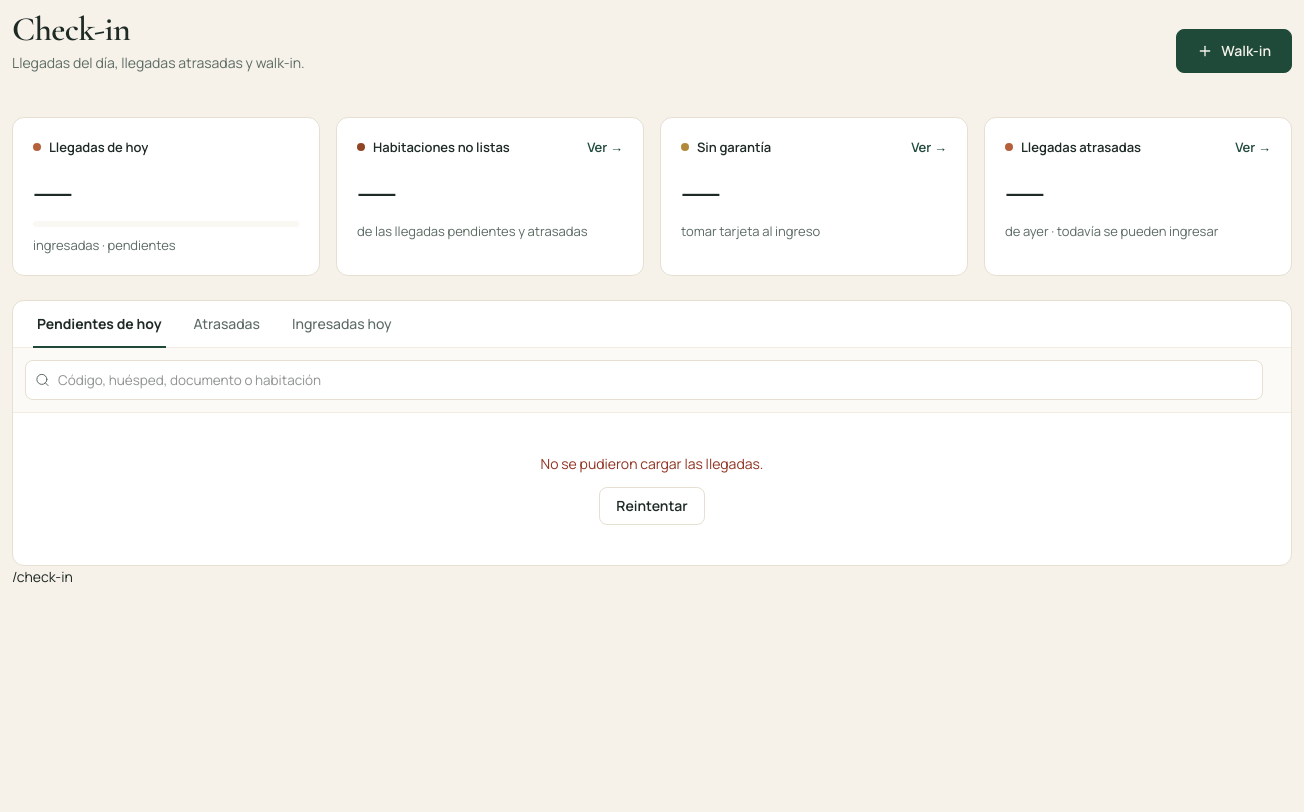
Test: estados de la pantalla › error con reintento
Expected: the text "No se pudieron cargar las llegadas." is shown, [541,453,763,475]
Step 1. Click the button "Reintentar" → point(652, 506), box [599,487,705,525]
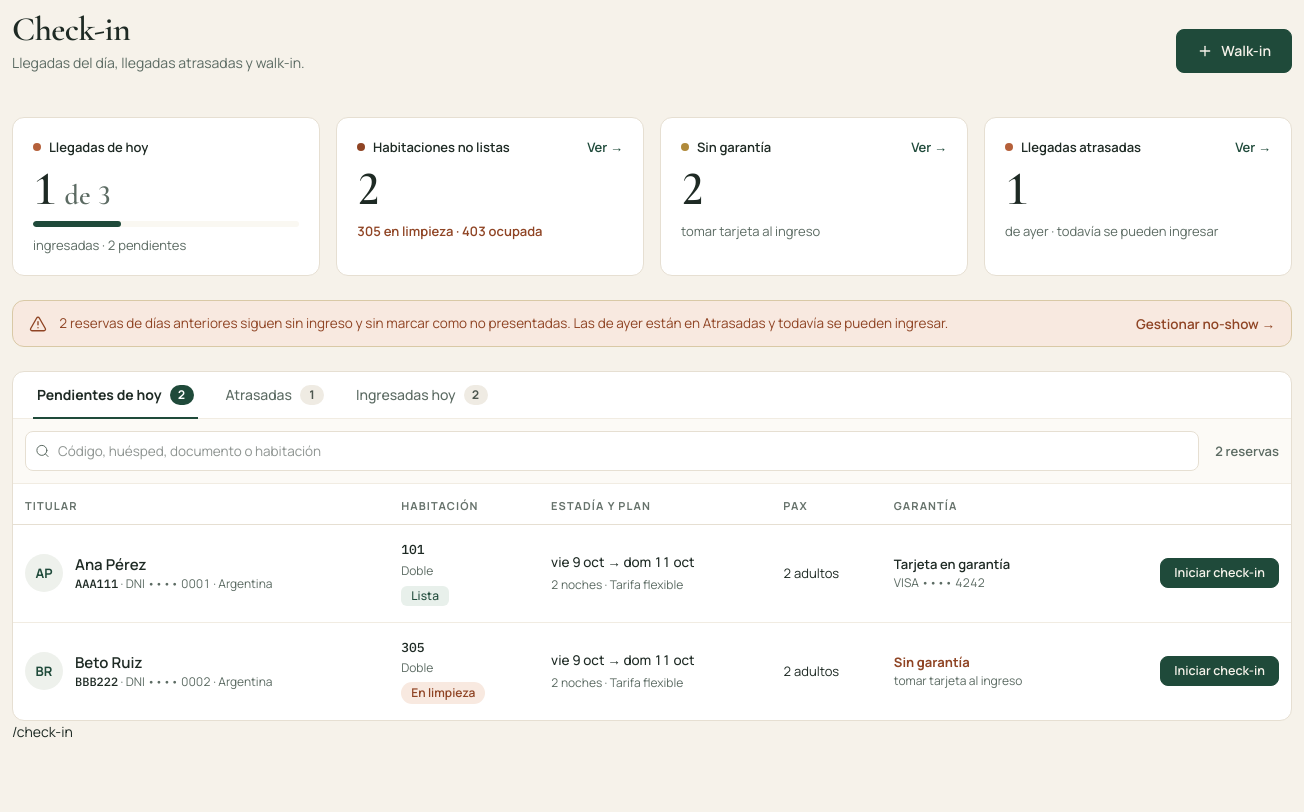
Expected: the text "Ana Pérez" is shown, [75,554,147,575]
